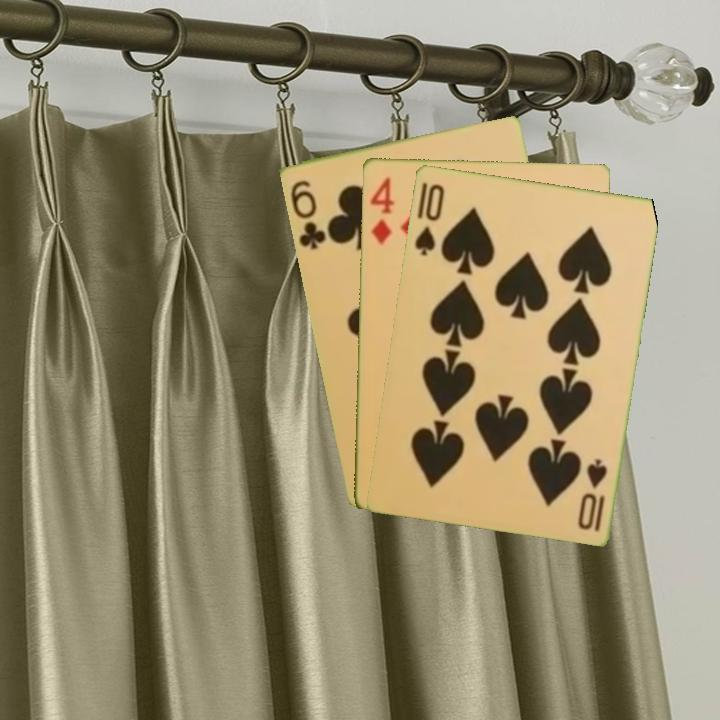10s: (410, 180, 447, 258), (574, 455, 610, 534)
4d: (366, 173, 397, 247)
6c: (286, 176, 328, 252)
